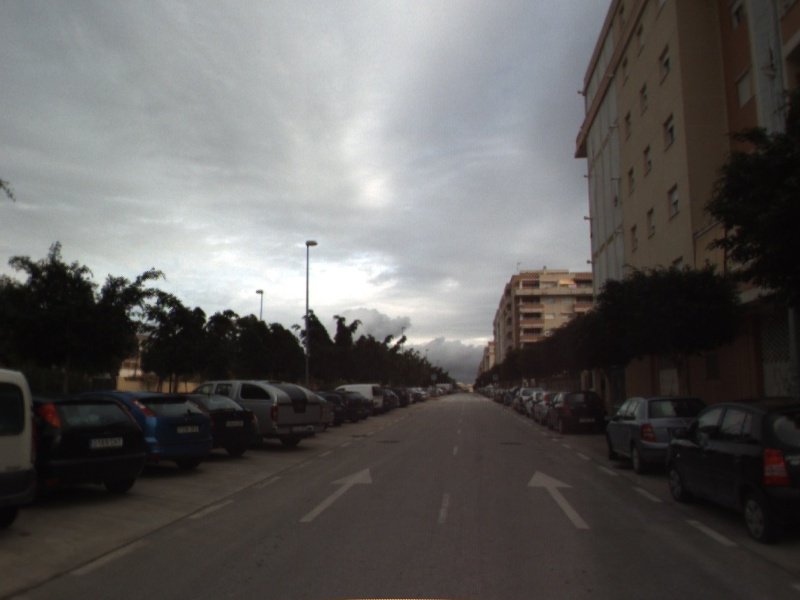STRAIGHT: (297, 466, 374, 524), (525, 468, 593, 531)
